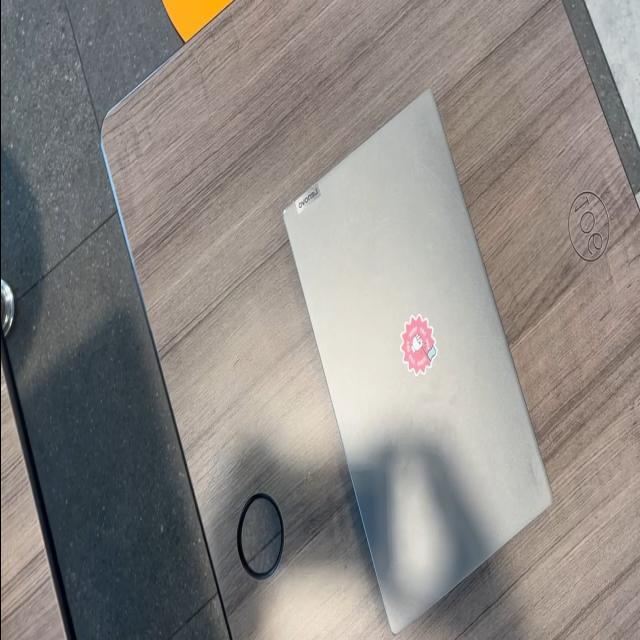laptop: (280, 87, 553, 634)
